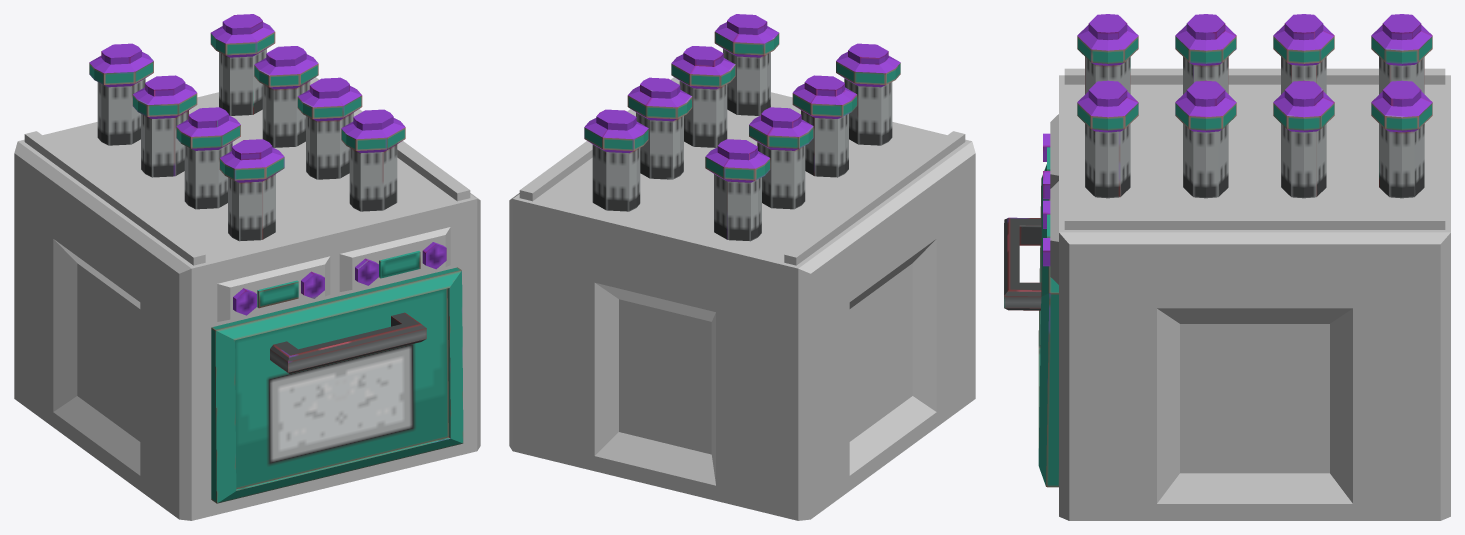
The model's file is EZBake 1.fbx.
3 renders of one model, left to right at view 1: azimuth 30°, elevation 25°; view 2: azimuth 150°, elevation 25°; view 3: azimuth 270°, elevation 25°, orthographic. The views are drawn at different scales.
Visible parts, largest first — view 1: Oven, door, Pipes, Buttons; view 2: Oven, Pipes; view 3: Oven, Pipes, door, Buttons.
Part boxes in pixels (x1,y1,x2,y2): Oven: [14, 77, 480, 520]; door: [211, 267, 463, 503]; Pipes: [89, 14, 405, 241]; Buttons: [233, 242, 446, 315]; Oven: [509, 77, 975, 520]; Pipes: [584, 14, 900, 241]; Oven: [1050, 68, 1450, 520]; Pipes: [1077, 14, 1432, 198]; door: [1004, 164, 1058, 487]; Buttons: [1043, 133, 1050, 266].
Size of the model in its own units: 500 by 537 by 570.
